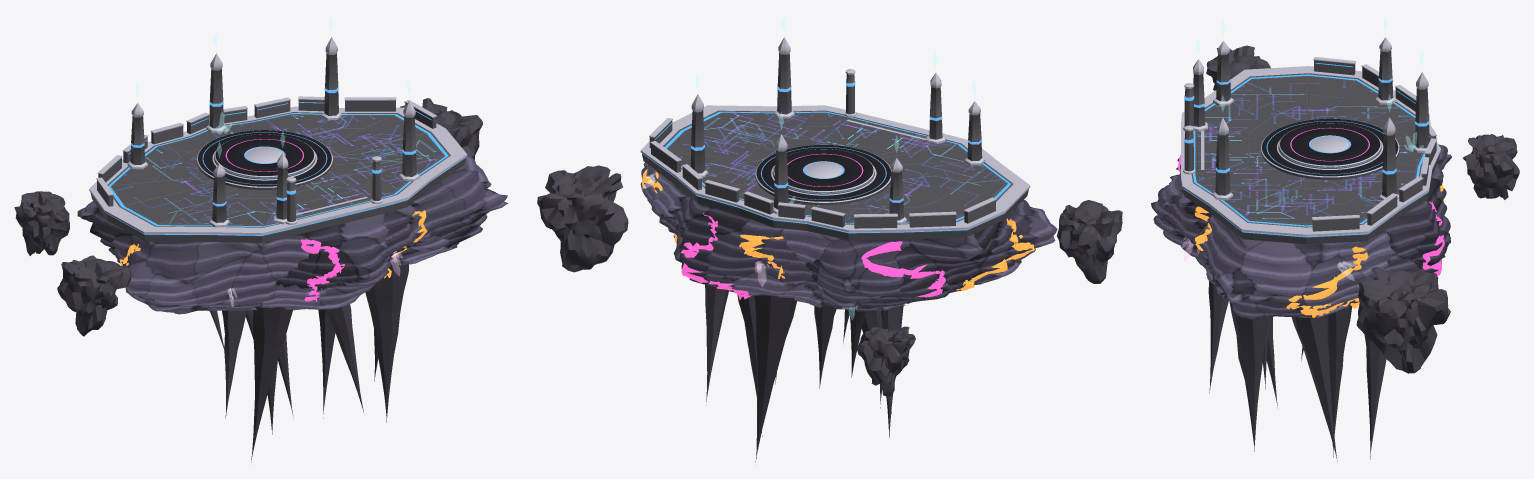
Rendered from Island_03_web.glb.
3 renders of one model, left to right at view 1: azimuth 30°, elevation 25°; view 2: azimuth 150°, elevation 25°; view 3: azimuth 270°, elevation 25°, orthographic.
Visible parts, largest first — view 1: Island_03_Deck, Island_03_Rock, Island_03_Architecture, Island_03_Spires, Island_03, Island_03_Plaza, Island_03_Veins; view 2: Island_03_Deck, Island_03_Rock, Island_03, Island_03_Architecture, Island_03_Spires, Island_03_Plaza, Island_03_Veins; view 3: Island_03_Deck, Island_03_Rock, Island_03, Island_03_Architecture, Island_03_Spires, Island_03_Plaza, Island_03_Veins.
Boxes of the visible parts, x1,y1,x2,y2 form: Island_03_Deck: (89, 106, 467, 242); Island_03_Rock: (77, 154, 508, 314); Island_03_Architecture: (96, 15, 437, 227); Island_03_Spires: (210, 263, 408, 462); Island_03: (14, 98, 482, 336); Island_03_Plaza: (196, 130, 332, 189); Island_03_Veins: (119, 210, 427, 301); Island_03_Deck: (640, 105, 1030, 240); Island_03_Rock: (640, 128, 1057, 311); Island_03: (537, 165, 1122, 396); Island_03_Architecture: (649, 15, 996, 228); Island_03_Spires: (705, 284, 903, 461); Island_03_Plaza: (755, 144, 891, 205); Island_03_Veins: (642, 169, 1035, 299); Island_03_Deck: (1181, 66, 1440, 244); Island_03_Rock: (1151, 144, 1451, 319); Island_03: (1181, 45, 1519, 373); Island_03_Architecture: (1183, 15, 1437, 231); Island_03_Spires: (1208, 281, 1386, 461); Island_03_Plaza: (1260, 118, 1399, 179); Island_03_Veins: (1178, 154, 1444, 317).
Size of the model in its own units: 38.7 by 29.01 by 24.64.
13 materials, 1 textured.
